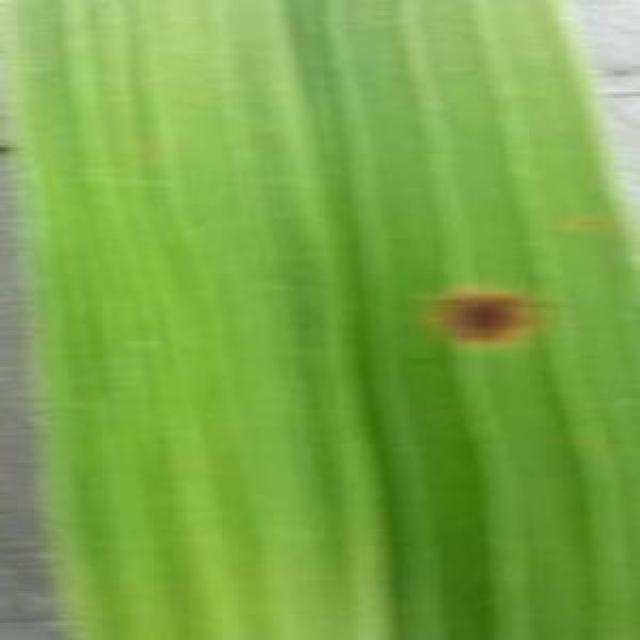Brown_Spot: (407, 255, 557, 375), (555, 214, 617, 238)
